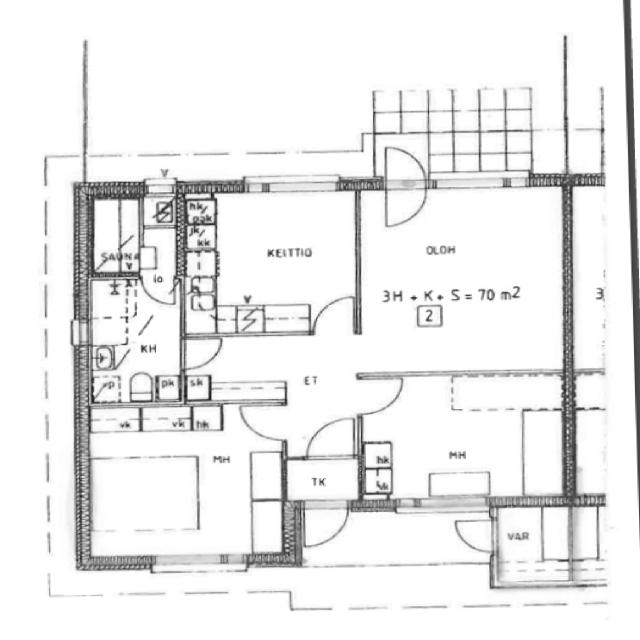door: (377, 139, 431, 233), (299, 499, 352, 552), (303, 414, 359, 464), (236, 400, 290, 444), (447, 514, 501, 558), (354, 372, 406, 416), (178, 331, 225, 373), (310, 294, 358, 335), (137, 272, 180, 308), (141, 178, 182, 201)
window: (239, 172, 346, 199), (146, 552, 249, 580), (429, 174, 537, 196), (70, 313, 91, 347)
zone: (350, 165, 572, 392), (89, 411, 287, 570), (359, 373, 571, 506), (179, 189, 361, 335), (84, 278, 185, 407), (87, 193, 183, 278), (494, 500, 582, 590), (88, 403, 142, 434)
